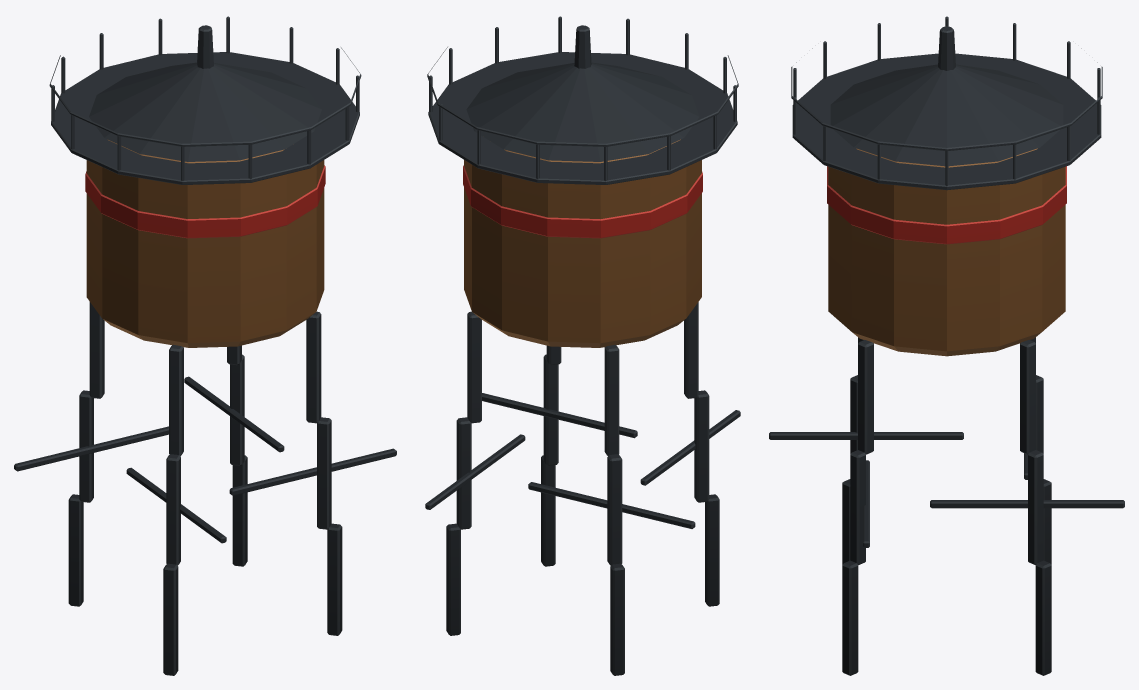
Rendered from water-tower-v1.glb.
3 renders of one model, left to right at view 1: azimuth 30°, elevation 25°; view 2: azimuth 150°, elevation 25°; view 3: azimuth 270°, elevation 25°, orthographic. The views are drawn at different scales.
Visible parts, largest first — view 1: water-tower-v1.lod0; view 2: water-tower-v1.lod0; view 3: water-tower-v1.lod0.
Boxes of the visible parts, x1,y1,x2,y2 form: water-tower-v1.lod0: [14, 16, 396, 675]; water-tower-v1.lod0: [425, 16, 740, 675]; water-tower-v1.lod0: [769, 16, 1124, 675].
Size of the model in its own units: 7.01 by 13.13 by 7.01.
